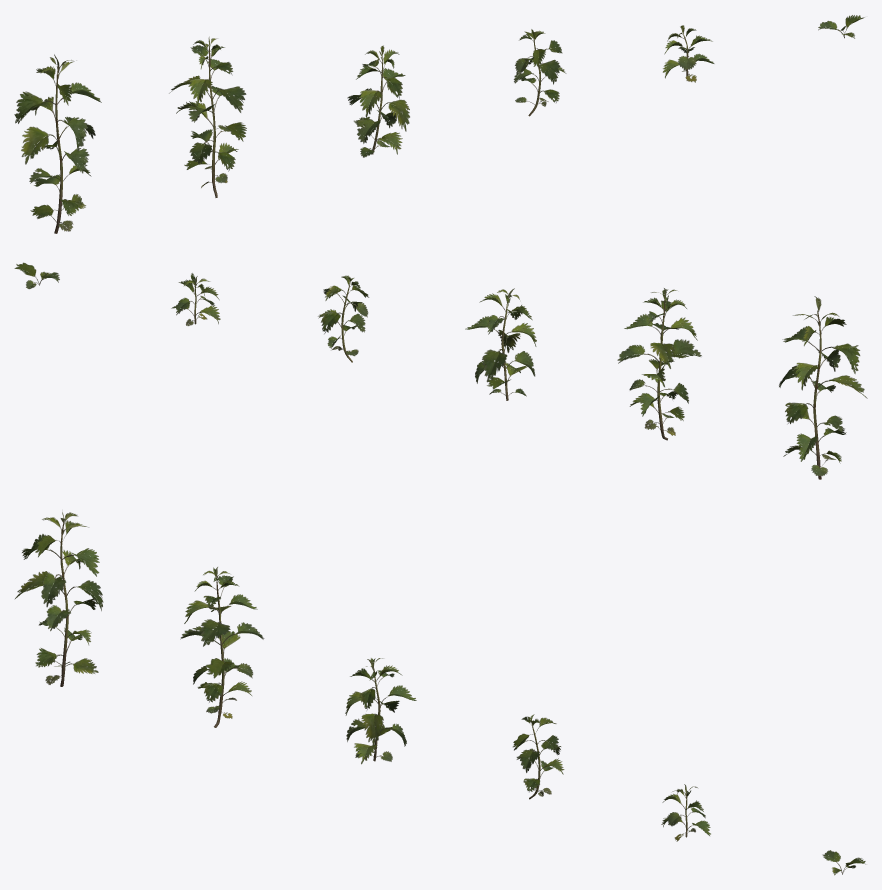
The model's file is nettle_plant.glb.
The picture shows the model from 3 angles, top to bottom: view 1: azimuth 30°, elevation 25°; view 2: azimuth 150°, elevation 25°; view 3: azimuth 330°, elevation 25°; orthographic projection.
Visible parts, largest first — view 1: nettle_plant_tall_a_LOD0, nettle_plant_tall_b_LOD0, nettle_plant_medium_a_LOD0, nettle_plant_medium_b_LOD0, nettle_plant_small_a_LOD0; view 2: nettle_plant_tall_a_LOD0, nettle_plant_tall_b_LOD0, nettle_plant_medium_a_LOD0, nettle_plant_medium_b_LOD0, nettle_plant_small_a_LOD0; view 3: nettle_plant_tall_a_LOD0, nettle_plant_tall_b_LOD0, nettle_plant_medium_a_LOD0, nettle_plant_medium_b_LOD0, nettle_plant_small_a_LOD0.
Part boxes in pixels (x1,y1,x2,y2): nettle_plant_tall_a_LOD0: [14, 54, 101, 233]; nettle_plant_tall_b_LOD0: [169, 36, 246, 197]; nettle_plant_medium_a_LOD0: [347, 45, 409, 157]; nettle_plant_medium_b_LOD0: [513, 29, 566, 116]; nettle_plant_small_a_LOD0: [663, 25, 714, 82]; nettle_plant_tall_a_LOD0: [779, 296, 867, 479]; nettle_plant_tall_b_LOD0: [617, 288, 701, 440]; nettle_plant_medium_a_LOD0: [465, 288, 536, 400]; nettle_plant_medium_b_LOD0: [318, 275, 369, 362]; nettle_plant_small_a_LOD0: [171, 273, 220, 325]; nettle_plant_tall_a_LOD0: [14, 512, 103, 686]; nettle_plant_tall_b_LOD0: [180, 567, 264, 727]; nettle_plant_medium_a_LOD0: [345, 658, 416, 764]; nettle_plant_medium_b_LOD0: [513, 714, 564, 799]; nettle_plant_small_a_LOD0: [661, 784, 710, 841].
Bounding box in the file's own units: 1.08 × 0.2182 × 0.0949.
1 material, 1 textured.
